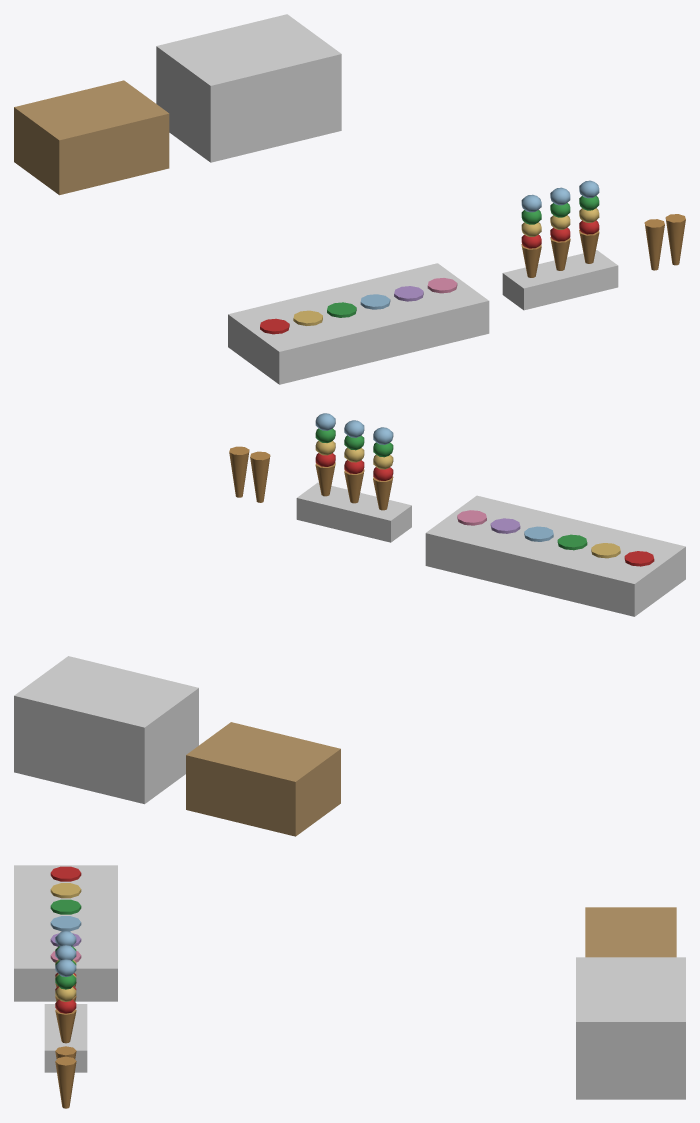
File: goods_icecream.glb
3 views of the same model, one above another, from view 1: azimuth 30°, elevation 25°; view 2: azimuth 150°, elevation 25°; view 3: azimuth 270°, elevation 25° (orthographic).
Parts seen in each view (by area): view 1: goods_icecream; view 2: goods_icecream; view 3: goods_icecream.
Boxes of the visible parts, bbox=[...] form: goods_icecream: bbox=[14, 14, 685, 384]; goods_icecream: bbox=[14, 413, 685, 836]; goods_icecream: bbox=[14, 865, 685, 1108].
Size of the model in its own units: 1.64 by 0.493 by 2.2.
